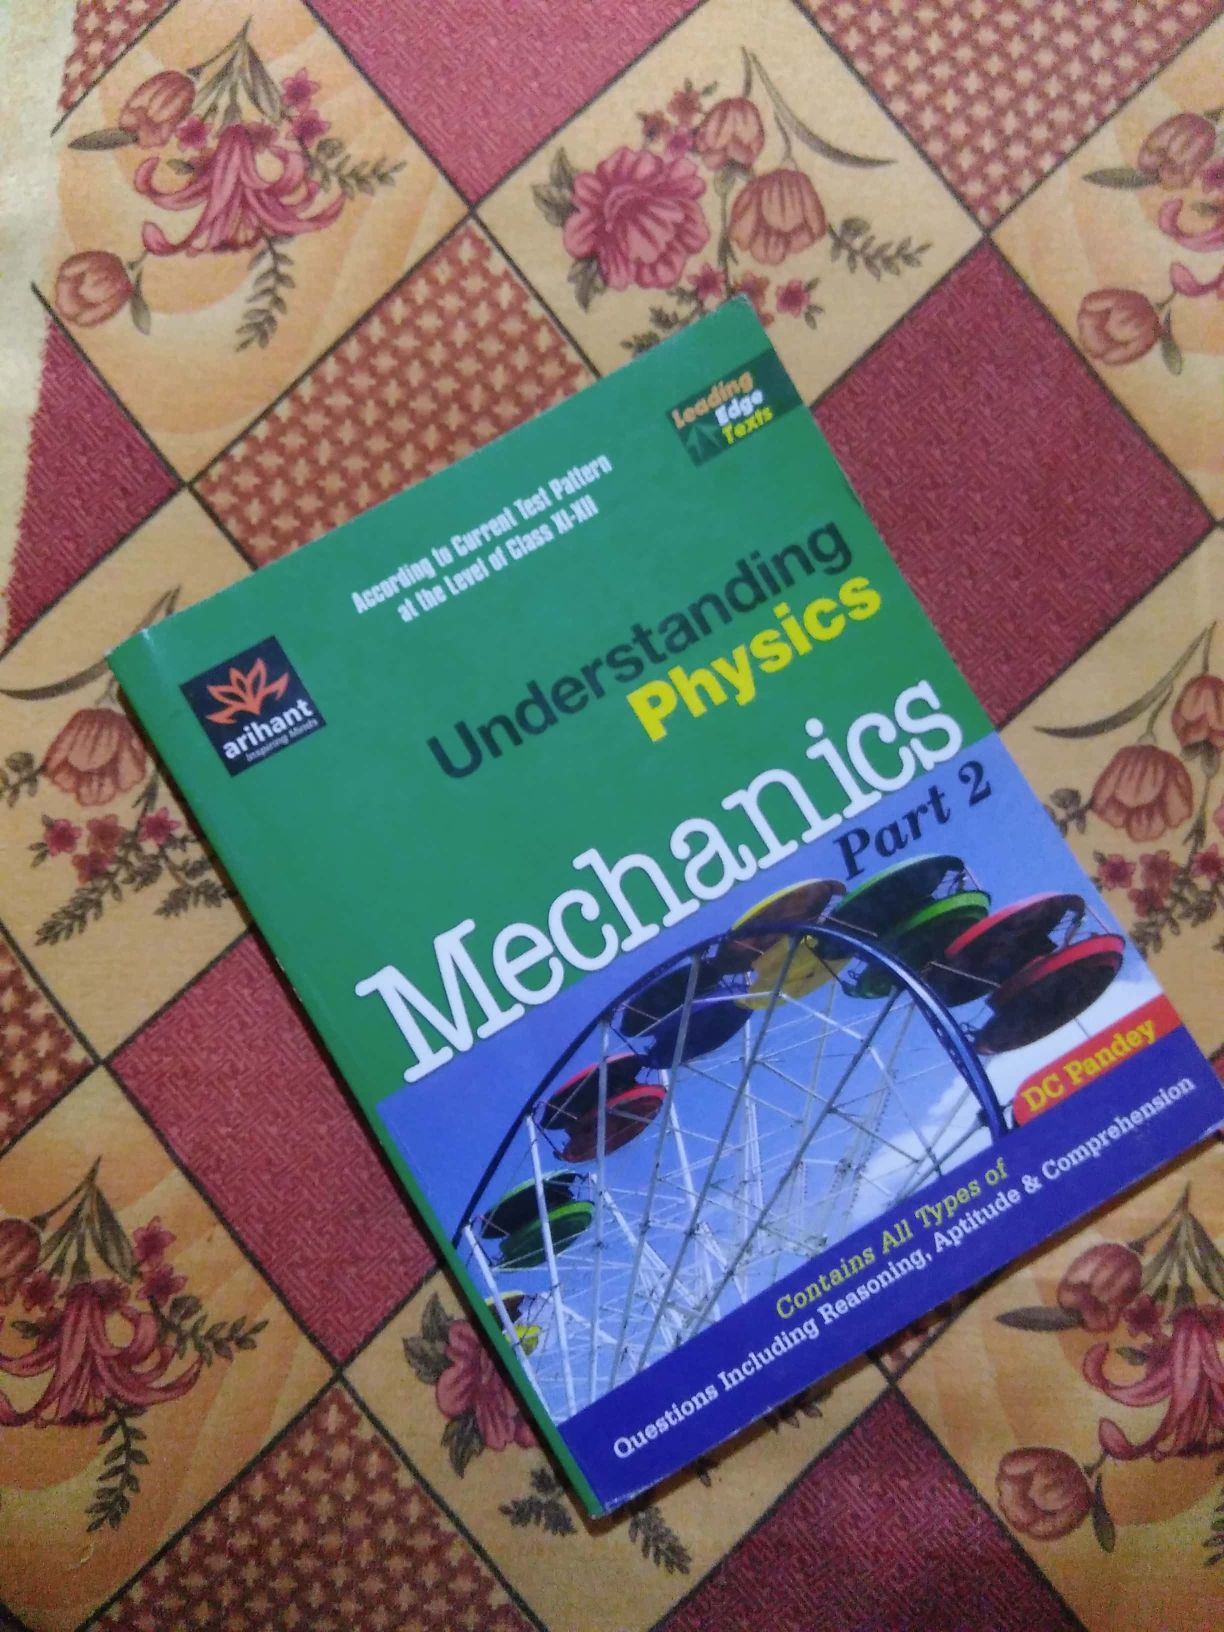mechanics: (144, 350, 1209, 1497)
